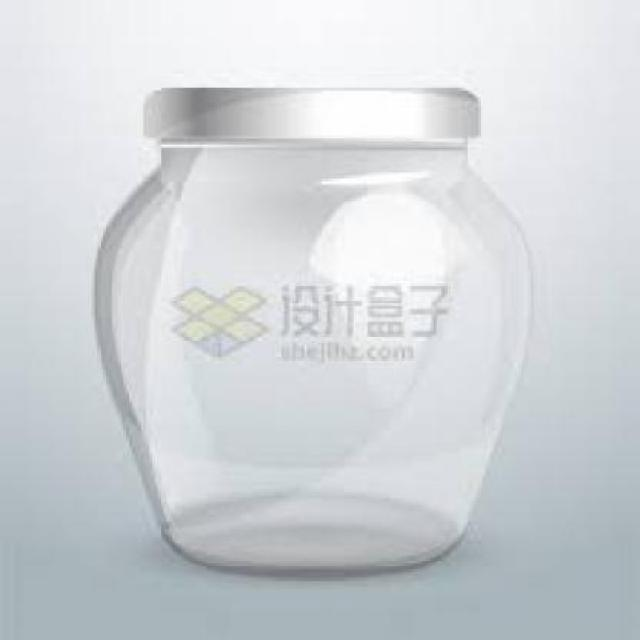kaca: (92, 132, 528, 570)
